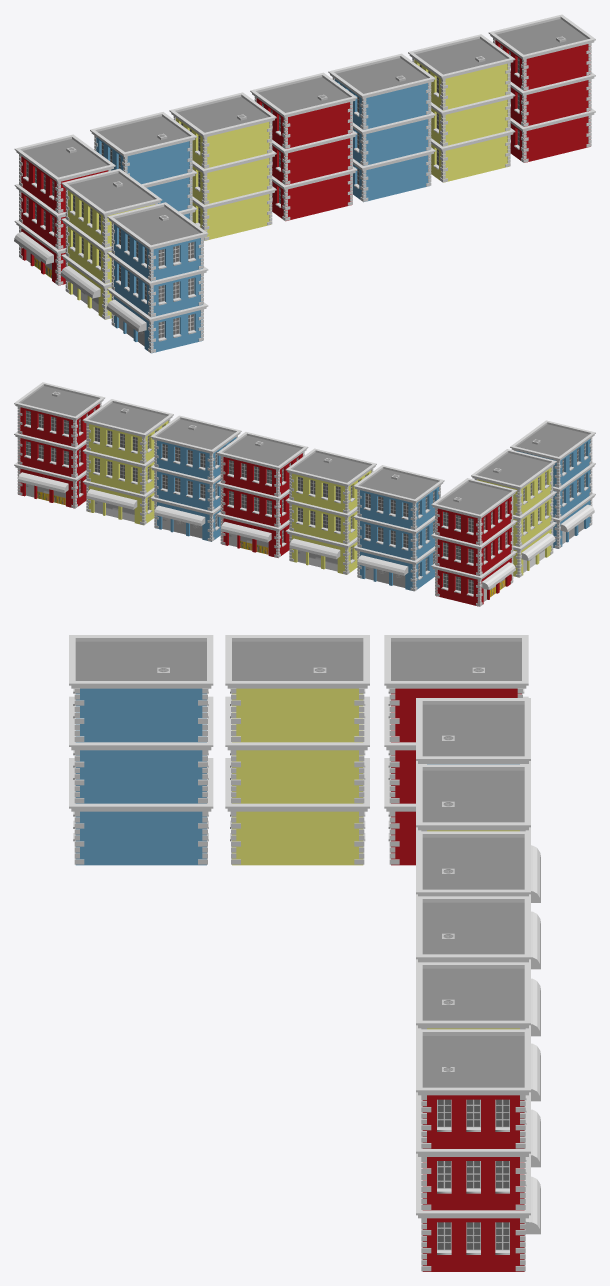
The model's file is apartamentos.obj.
3 views of the same model, one above another, from view 1: azimuth 30°, elevation 25°; view 2: azimuth 150°, elevation 25°; view 3: azimuth 270°, elevation 25° (orthographic). The views are drawn at different scales.
Visible parts, largest first — view 1: apartments2.000_Plane.001; view 2: apartments2.000_Plane.001; view 3: apartments2.000_Plane.001.
Boxes of the visible parts, x1=… form: apartments2.000_Plane.001: x1=14, y1=14, x2=595, y2=353; apartments2.000_Plane.001: x1=14, y1=382, x2=595, y2=606; apartments2.000_Plane.001: x1=69, y1=635, x2=540, y2=1271.
Size of the model in its own units: 49.72 by 9.3 by 21.58.
Materials: 9 (9 with a texture image).
